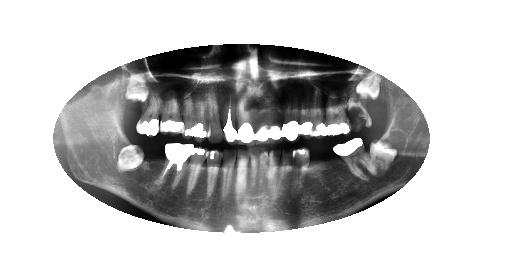i10decay: (233, 145, 252, 199)
i11decay: (219, 144, 237, 201)
i12healthy: (203, 147, 225, 200)
i13healthy: (184, 141, 208, 199)
i14healthy: (158, 139, 197, 194)
i15loss: (142, 141, 166, 190)
i16decay: (277, 149, 295, 191)
i16healthy: (111, 142, 148, 178)
i1healthy: (366, 132, 397, 171)
i2healthy: (333, 137, 380, 180)
i3loss: (322, 146, 347, 186)
i4loss: (308, 147, 326, 190)
i5healthy: (291, 148, 310, 191)
i7decay: (264, 147, 279, 194)
i8healthy: (255, 147, 271, 196)
i9decay: (244, 144, 262, 194)
u10healthy: (219, 87, 239, 145)
u11decay: (206, 82, 225, 144)
u12healthy: (191, 86, 212, 141)
u13healthy: (180, 81, 197, 139)
u14healthy: (156, 86, 185, 137)
u15healthy: (131, 88, 164, 138)
u16healthy: (123, 71, 150, 103)
u1healthy: (356, 62, 384, 103)
u2decay: (342, 80, 367, 134)
u3healthy: (322, 85, 352, 139)
u4healthy: (308, 79, 325, 139)
u5healthy: (295, 76, 315, 140)
u6healthy: (283, 76, 299, 144)
u7loss: (269, 82, 283, 144)
u8healthy: (253, 83, 268, 146)
u9healthy: (233, 85, 254, 146)
